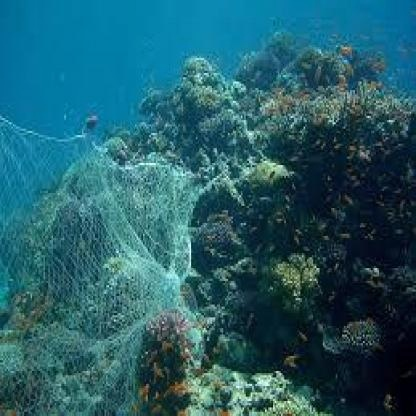net: (2, 129, 192, 414)
